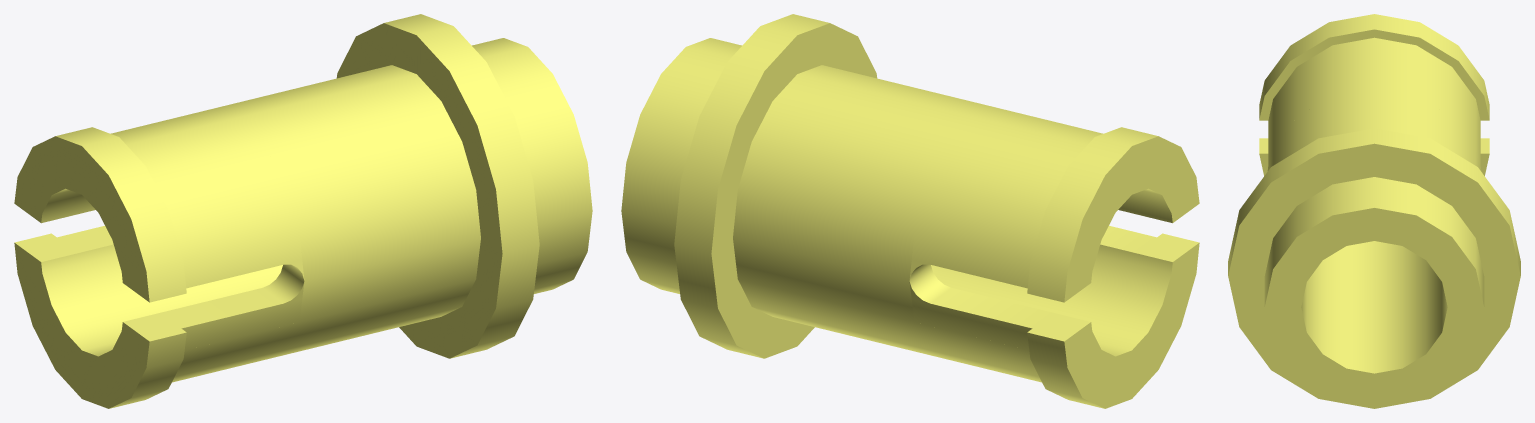
3 views of the same model, side by side, from view 1: azimuth 30°, elevation 25°; view 2: azimuth 150°, elevation 25°; view 3: azimuth 270°, elevation 25° (orthographic). The views are drawn at different scales.
Parts seen in each view (by area): view 1: 4274.dat; view 2: 4274.dat; view 3: 4274.dat.
Part boxes in pixels (box(x1,y1,x2,y2)): 4274.dat: box(14, 14, 592, 408); 4274.dat: box(621, 14, 1199, 408); 4274.dat: box(1228, 14, 1520, 408).
Size of the model in its own units: 0.0096 by 0.0064 by 0.0064.
